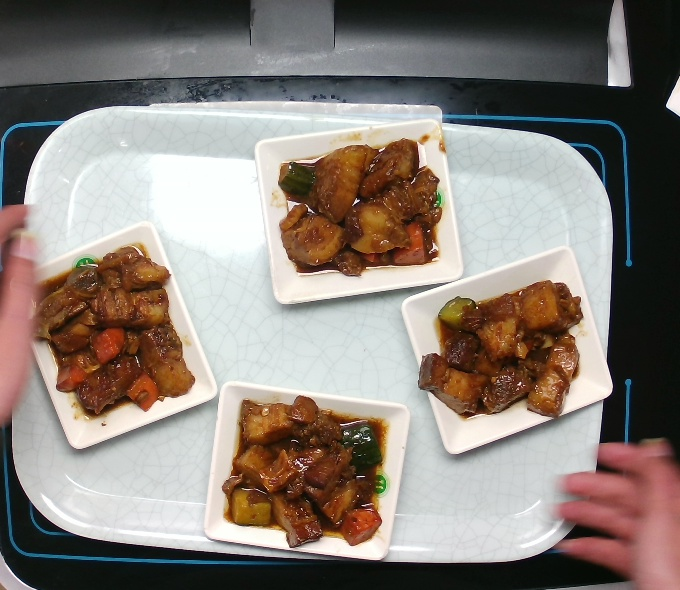wcq-JiangRou: (27, 241, 189, 415), (411, 283, 583, 418), (221, 407, 393, 542), (281, 137, 453, 272)
